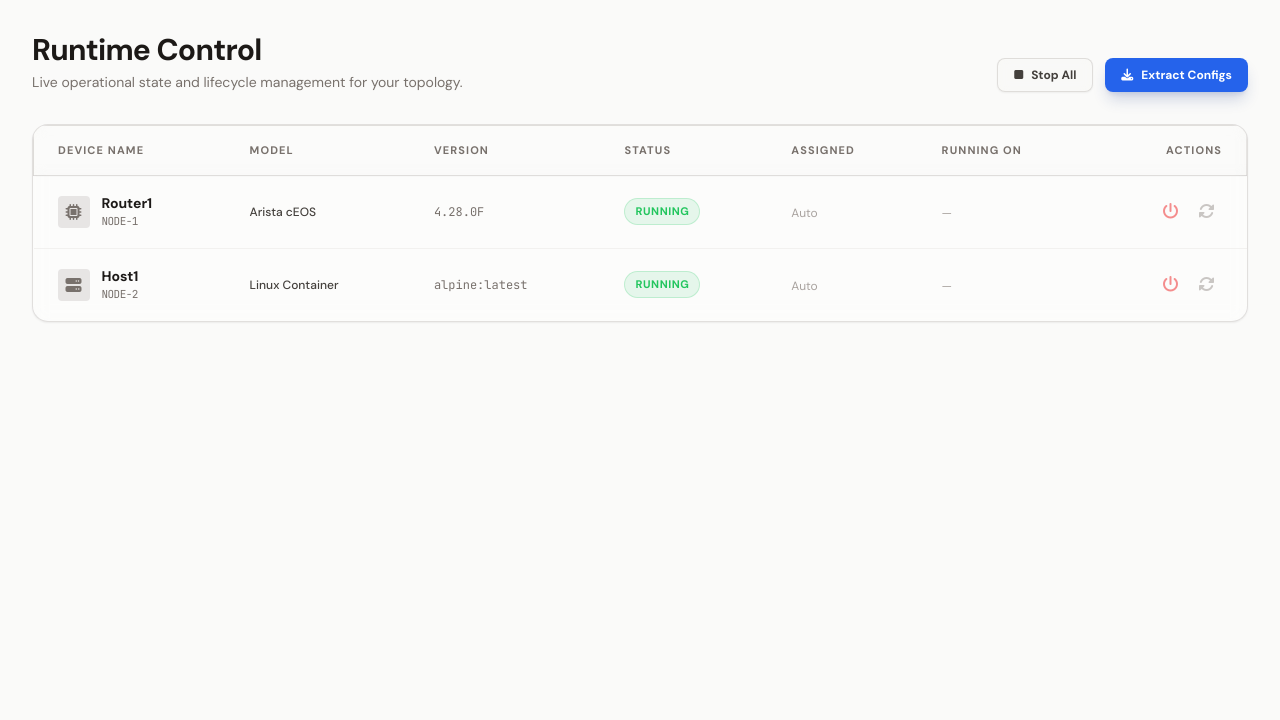
RuntimeControl › Extract configs › shows confirmation dialog before extracting
Click the button "Extract Configs" at (1177, 75), box [1105,58,1248,92]
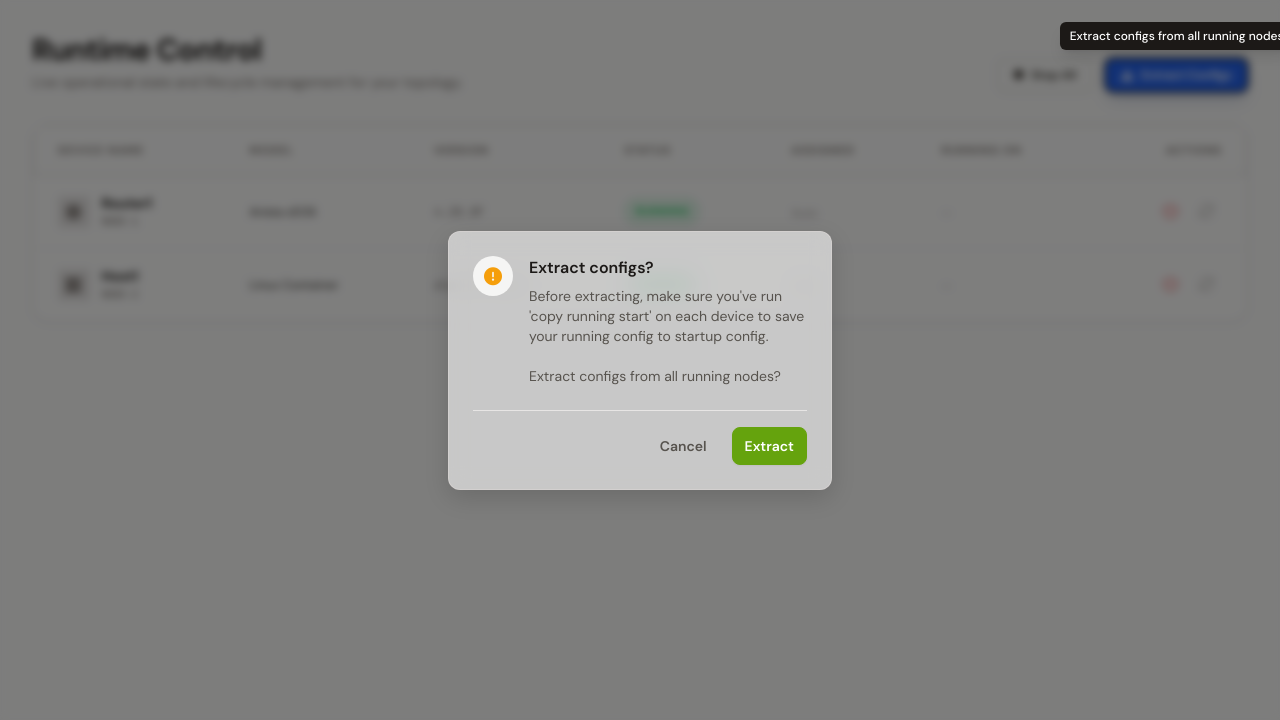
Now the heading "Extract configs?" is shown, box [529,256,654,278]
Now the text "make sure you've run" is shown, box [529,286,804,384]
